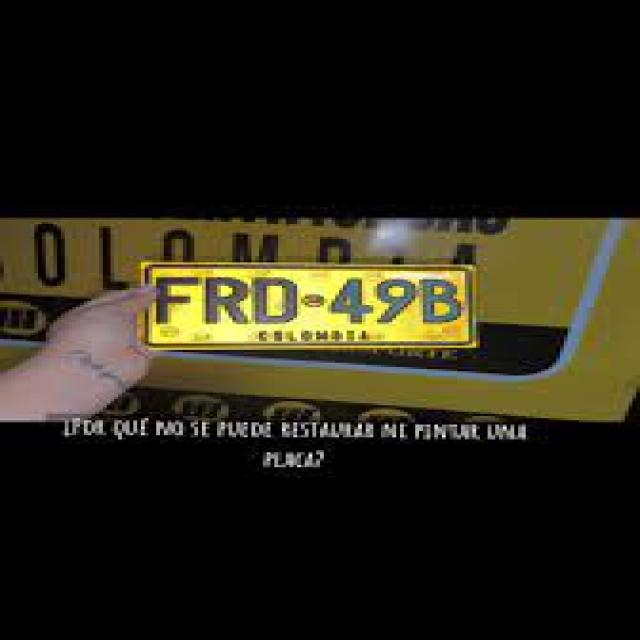placa_moto: (131, 262, 492, 352)
